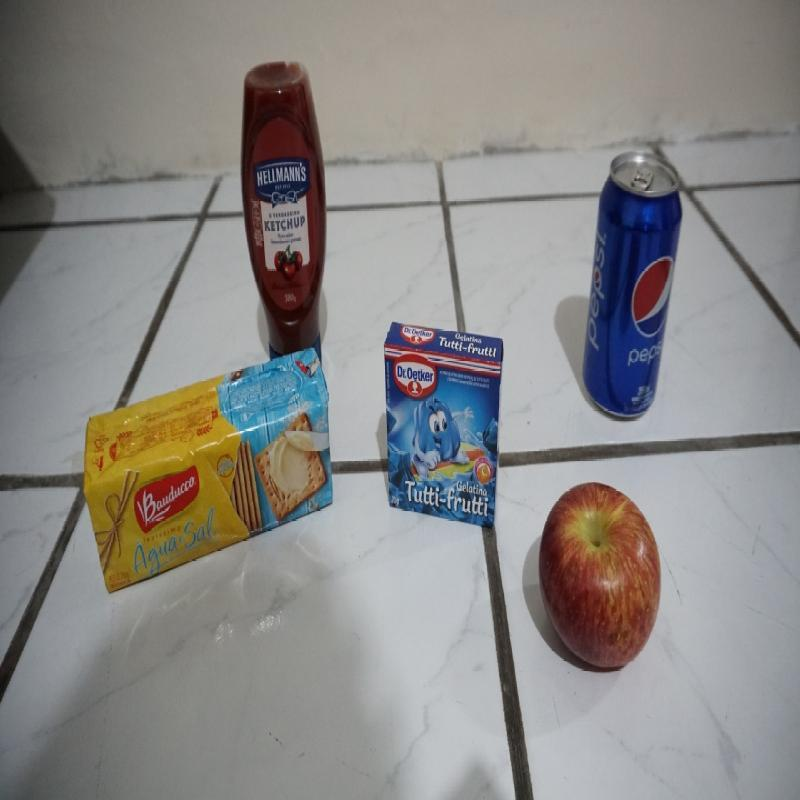Apple: (535, 464, 670, 680)
Cracker: (83, 345, 343, 593)
Gelatine: (383, 316, 504, 527)
Ketchup: (238, 64, 329, 342)
Soda can: (580, 145, 684, 420)
